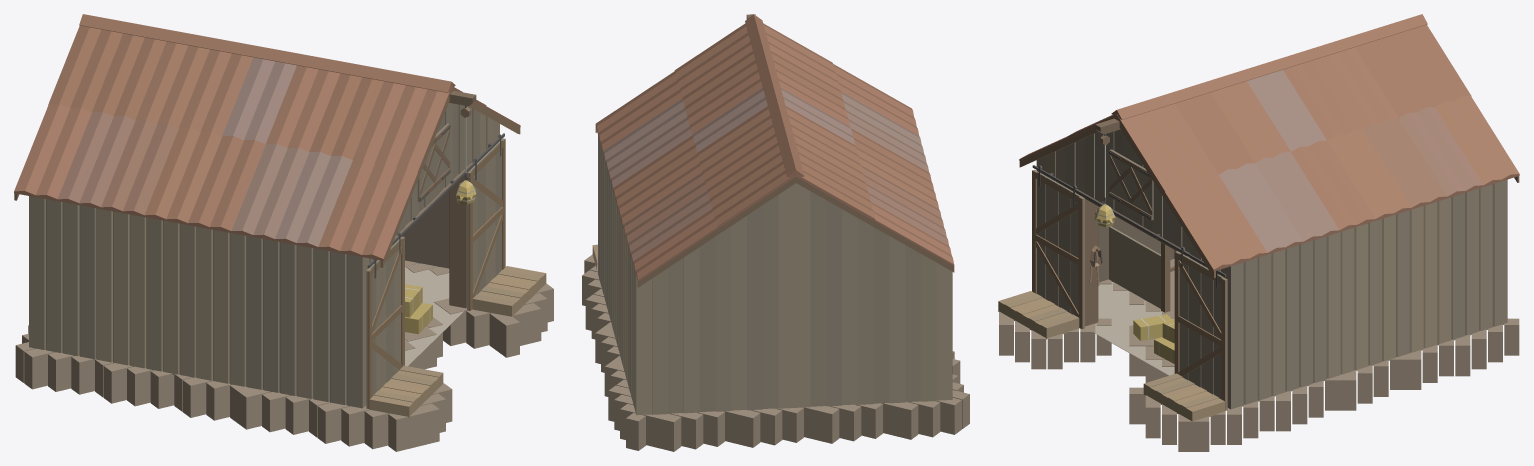
Rendered from house_9.glb.
The picture shows the model from 3 angles, left to right: view 1: azimuth 30°, elevation 25°; view 2: azimuth 150°, elevation 25°; view 3: azimuth 270°, elevation 25°; orthographic projection. The views are drawn at different scales.
Parts seen in each view (by area): view 1: house_9; view 2: house_9; view 3: house_9.
Part boxes in pixels (x1=…): house_9: x1=14, y1=14, x2=553, y2=451; house_9: x1=582, y1=14, x2=969, y2=451; house_9: x1=998, y1=14, x2=1519, y2=451.
Size of the model in its own units: 15.48 by 9.48 by 16.
